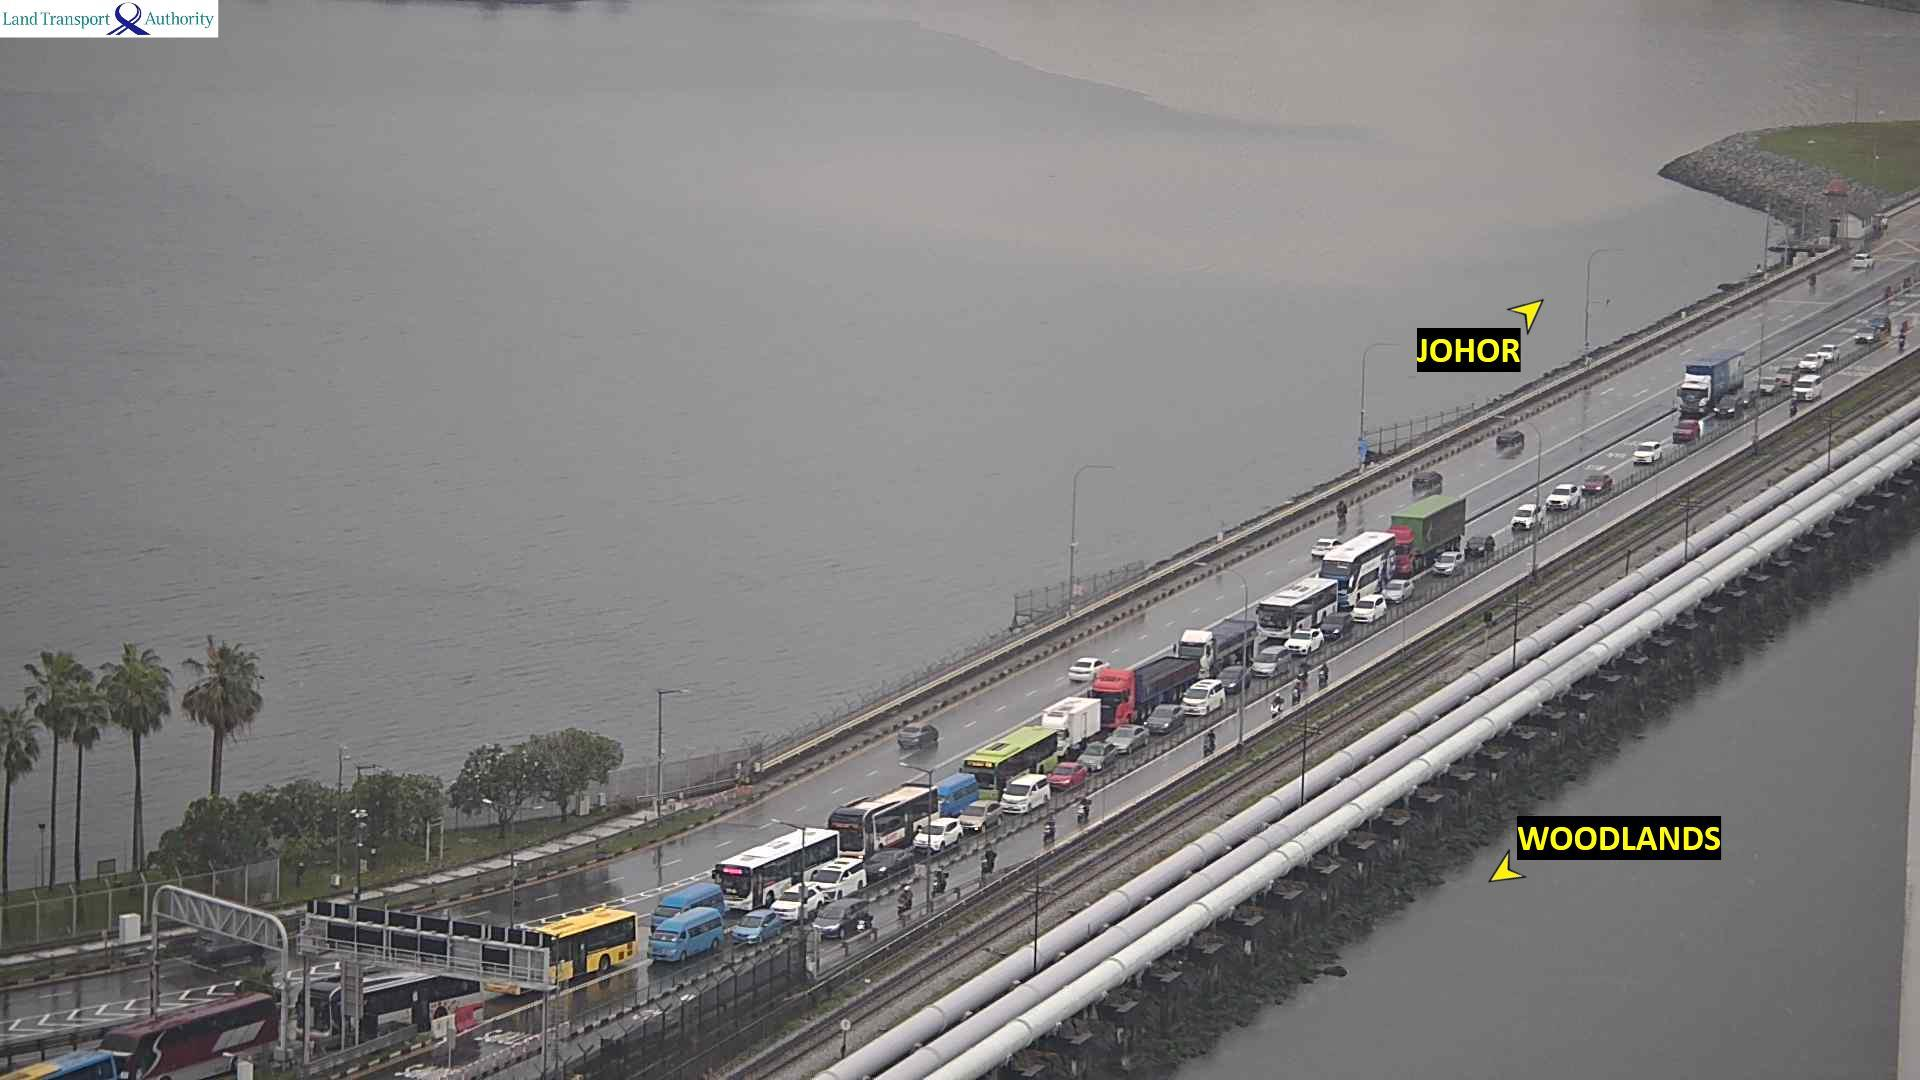vehicle-causeway-johor: (1064, 657, 1112, 683), (902, 719, 938, 748), (1410, 469, 1440, 493), (1495, 429, 1522, 455), (1855, 253, 1880, 270)
vehicle-causeway-singapore: (104, 996, 270, 1080), (491, 909, 637, 994), (307, 968, 484, 1026), (720, 829, 848, 899), (1084, 659, 1200, 732), (823, 789, 938, 852), (1386, 497, 1474, 556), (1033, 702, 1117, 764), (1180, 618, 1267, 671), (1315, 533, 1400, 585), (969, 728, 1054, 779), (1679, 352, 1749, 409), (649, 911, 720, 959), (3, 1051, 116, 1080), (654, 882, 716, 924), (920, 773, 982, 812), (814, 858, 865, 898), (911, 822, 967, 853), (820, 915, 878, 943), (1006, 775, 1047, 811), (1175, 686, 1225, 715), (869, 851, 914, 882), (736, 909, 775, 943), (961, 800, 1001, 831), (1350, 597, 1393, 624), (1110, 727, 1151, 753), (1627, 444, 1671, 468), (1544, 487, 1588, 509), (1255, 647, 1288, 675), (1507, 509, 1547, 531), (1052, 766, 1084, 793), (1577, 473, 1614, 495), (1288, 629, 1323, 651), (1795, 376, 1824, 401), (1466, 535, 1495, 558), (1431, 554, 1461, 575), (1324, 616, 1350, 640), (1385, 582, 1414, 603), (1221, 670, 1250, 691), (1716, 397, 1742, 417), (1673, 423, 1700, 442), (1040, 824, 1056, 852), (1869, 314, 1890, 331), (1775, 365, 1797, 381), (1818, 344, 1838, 360), (1800, 356, 1821, 369), (1758, 378, 1776, 393), (1079, 798, 1091, 820), (1271, 694, 1283, 715), (1205, 729, 1217, 750), (1296, 663, 1308, 683), (1855, 332, 1876, 342), (1319, 665, 1328, 686), (1292, 683, 1300, 703)
